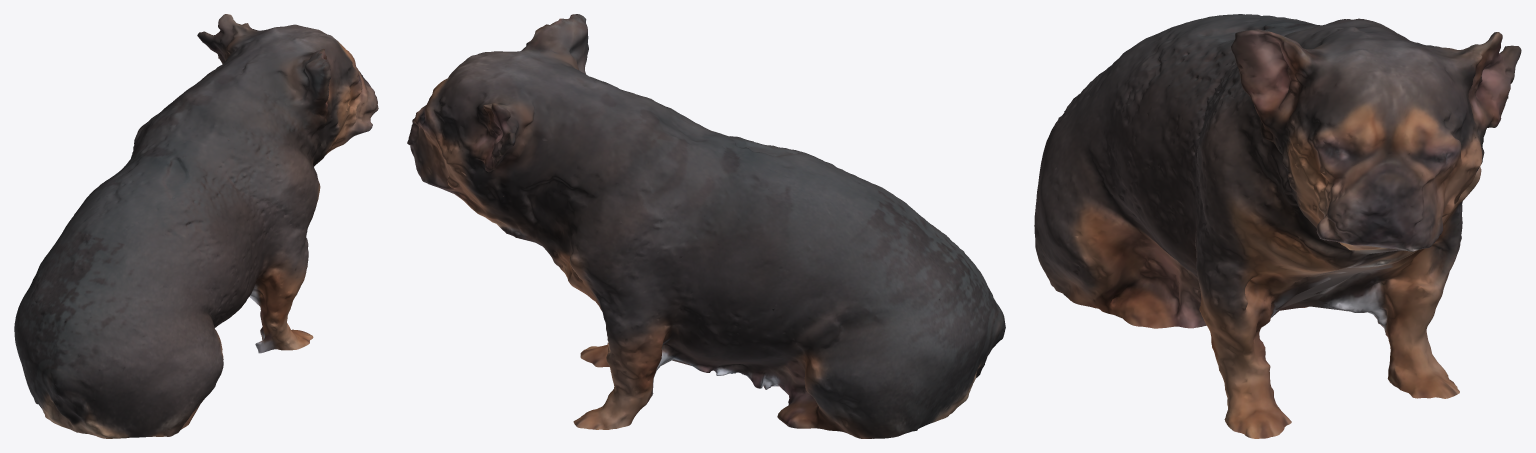
3 renders of one model, left to right at view 1: azimuth 30°, elevation 25°; view 2: azimuth 150°, elevation 25°; view 3: azimuth 270°, elevation 25°, orthographic. The views are drawn at different scales.
Parts seen in each view (by area): view 1: Mesh_0_Part_0; view 2: Mesh_0_Part_0; view 3: Mesh_0_Part_0.
Boxes of the visible parts, <box> form: Mesh_0_Part_0: <box>14,14,378,438</box>; Mesh_0_Part_0: <box>407,14,1005,438</box>; Mesh_0_Part_0: <box>1034,14,1521,438</box>.
Size of the model in its own units: 0.1939 by 0.127 by 0.1341.
1 material, 1 textured.
